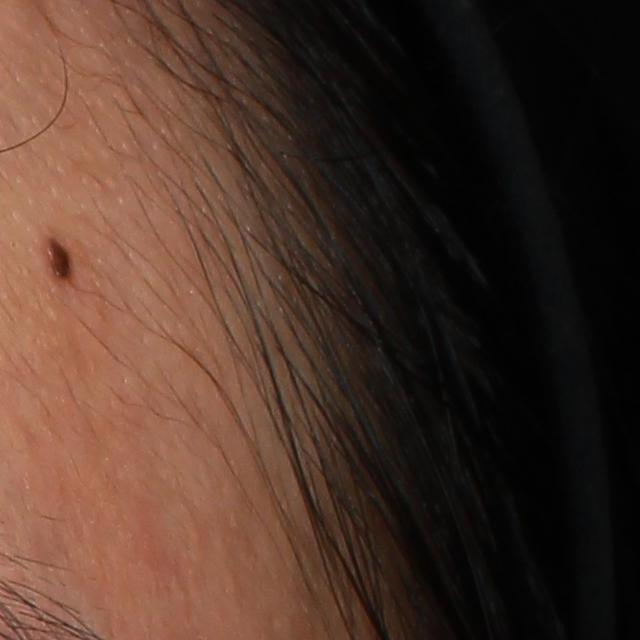nevus: (46, 234, 74, 285)
